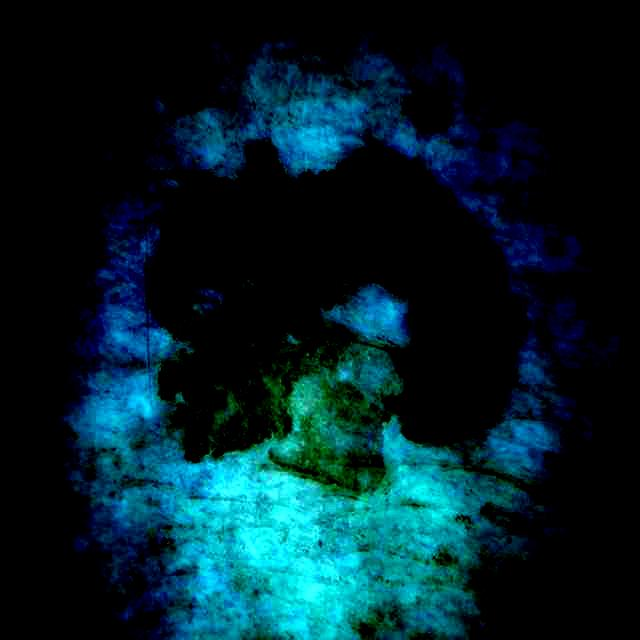BKL: (150, 144, 524, 491)
